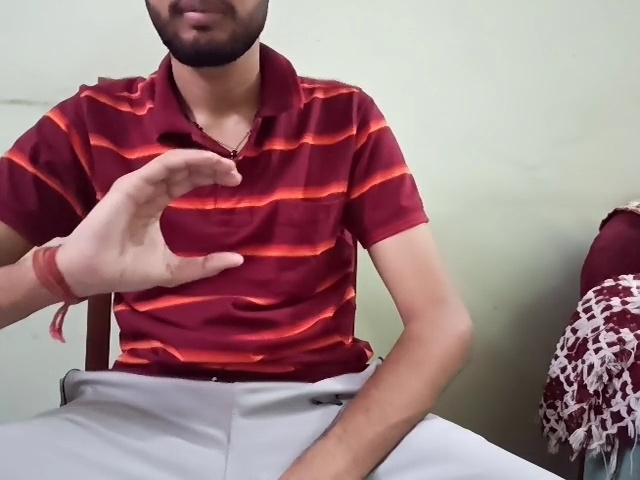C: (57, 149, 243, 309)
